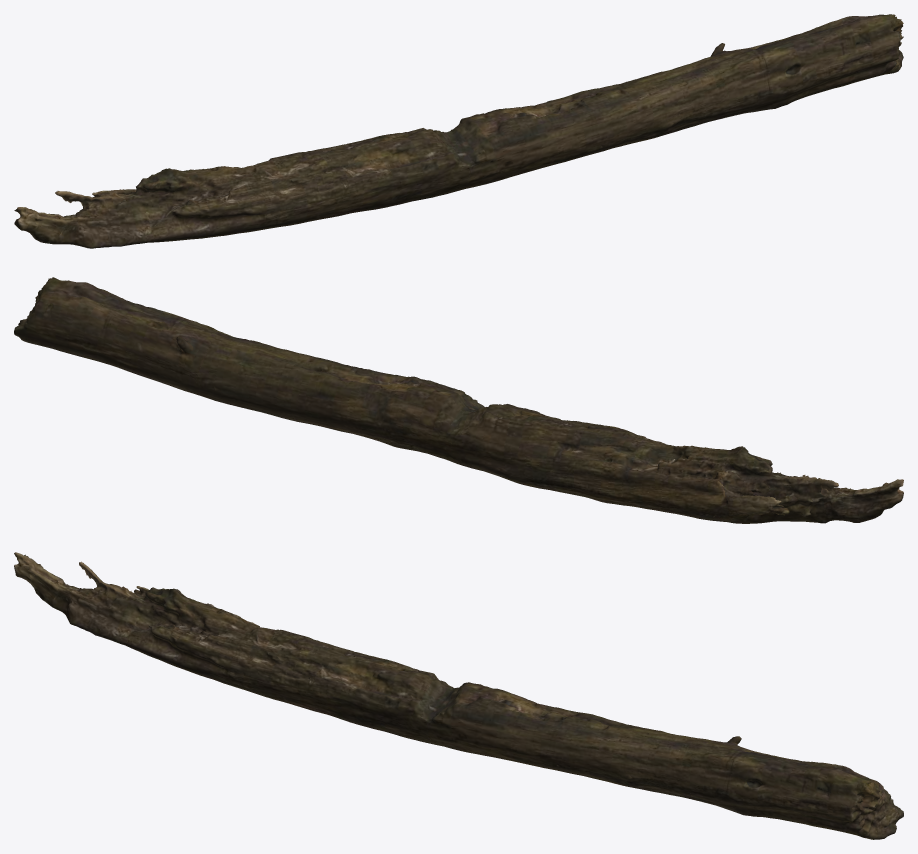
File: dead_tree_trunk.glb
The picture shows the model from 3 angles, top to bottom: view 1: azimuth 30°, elevation 25°; view 2: azimuth 150°, elevation 25°; view 3: azimuth 330°, elevation 25°; orthographic projection.
Parts seen in each view (by area): view 1: dead_tree_trunk; view 2: dead_tree_trunk; view 3: dead_tree_trunk.
Part boxes in pixels (x1,y1,x2,y2): dead_tree_trunk: (14,14,903,248); dead_tree_trunk: (14,277,903,523); dead_tree_trunk: (14,552,903,839).
Size of the model in its own units: 3.05 by 0.2904 by 0.2773.
1 material, 1 textured.
